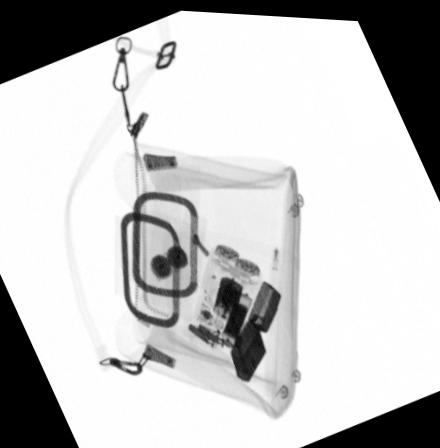Lighter: (229, 318, 267, 379)
